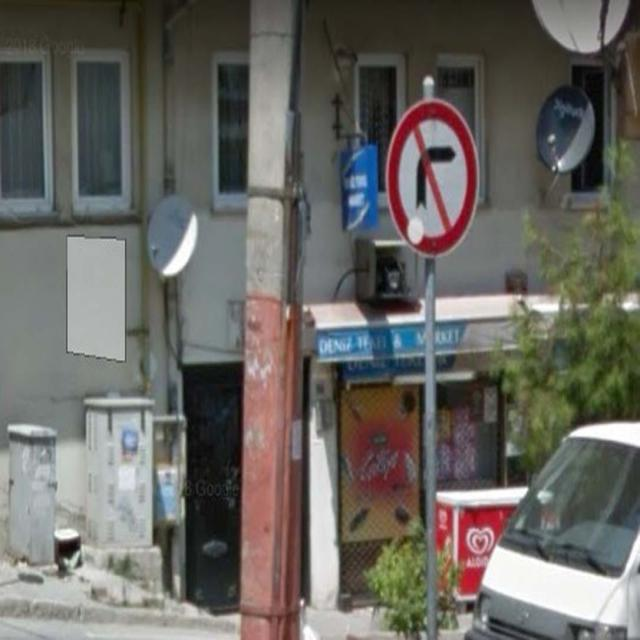sagadonulmez: (386, 99, 479, 256)
